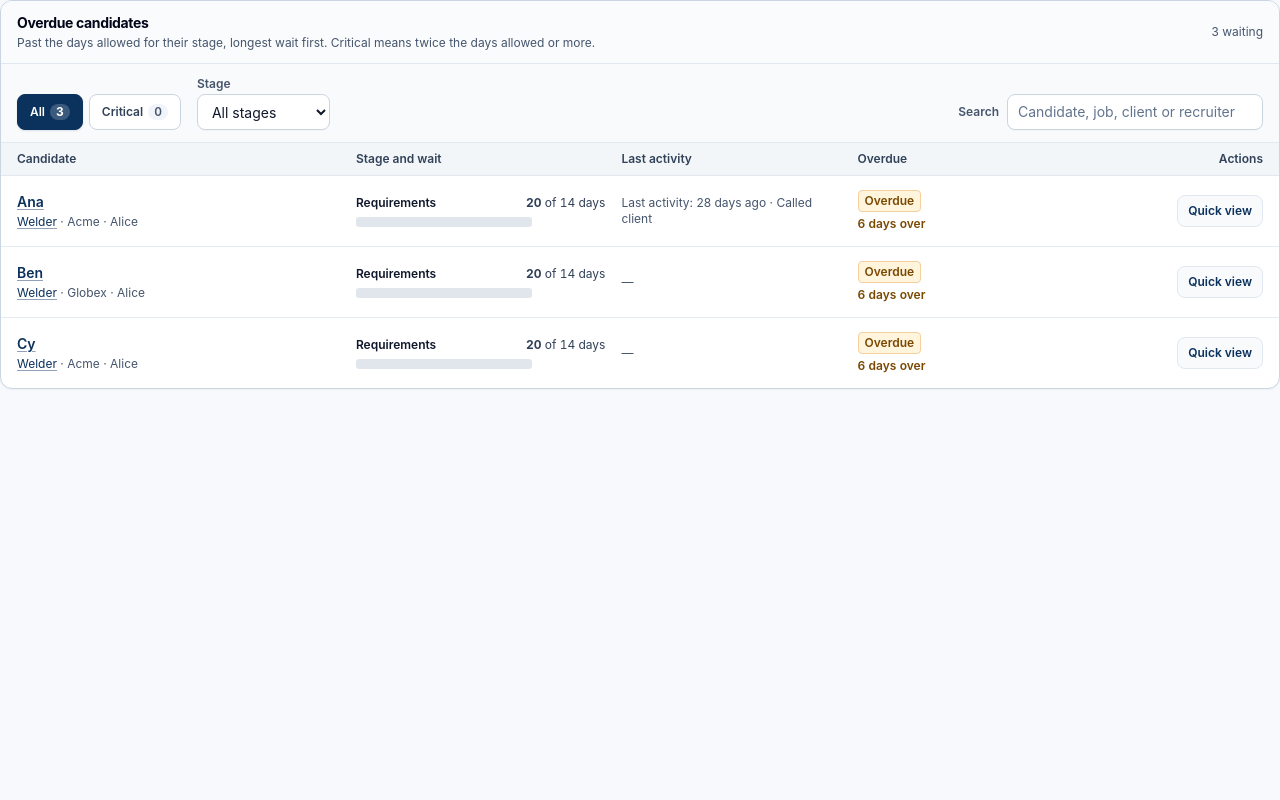
admin lists › StuckList Preview opens a dialog, Next steps through the filtered list, Escape closes
The width and height of the screenshot is (1280, 800).
Type "acme" into the search field labelled "Search" at [1135, 112], box [1007, 94, 1263, 130]
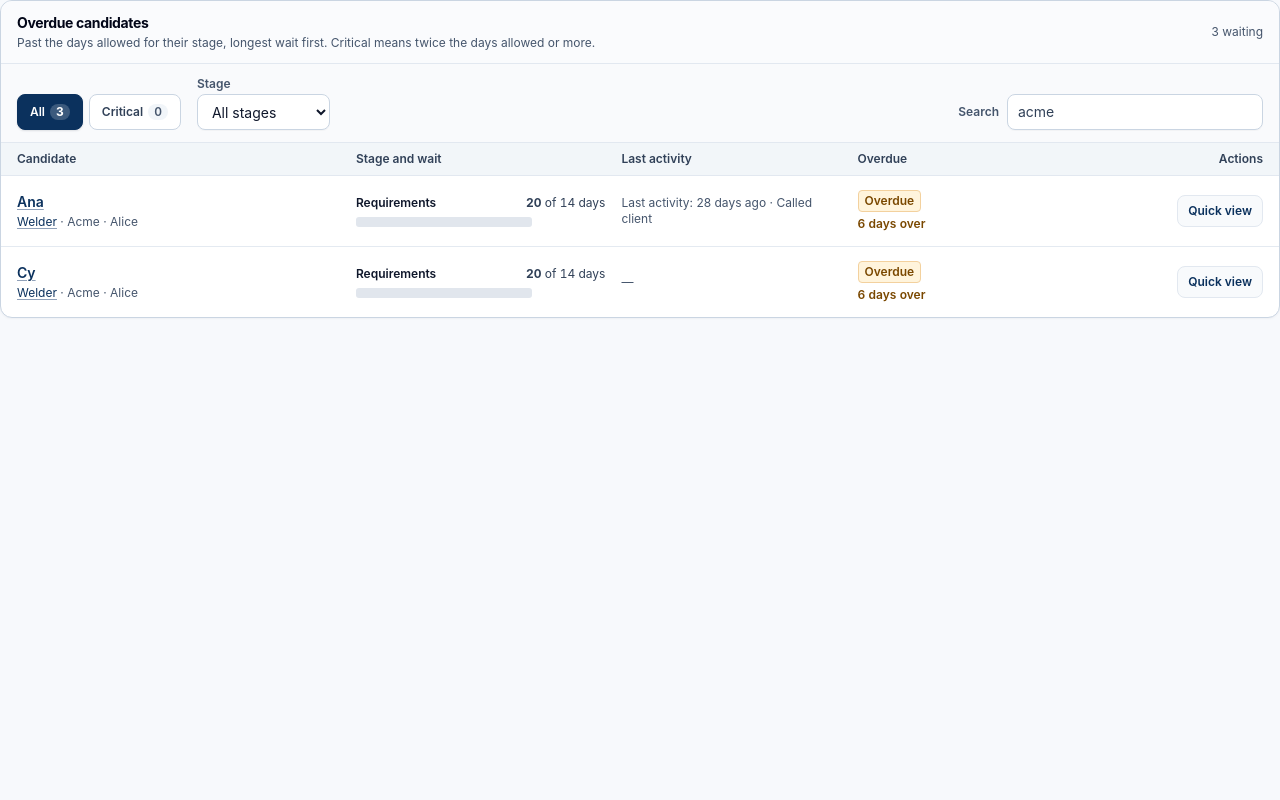
Click the button with aria-label "Quick view: Ana" at [1220, 211], box [1177, 195, 1263, 227]
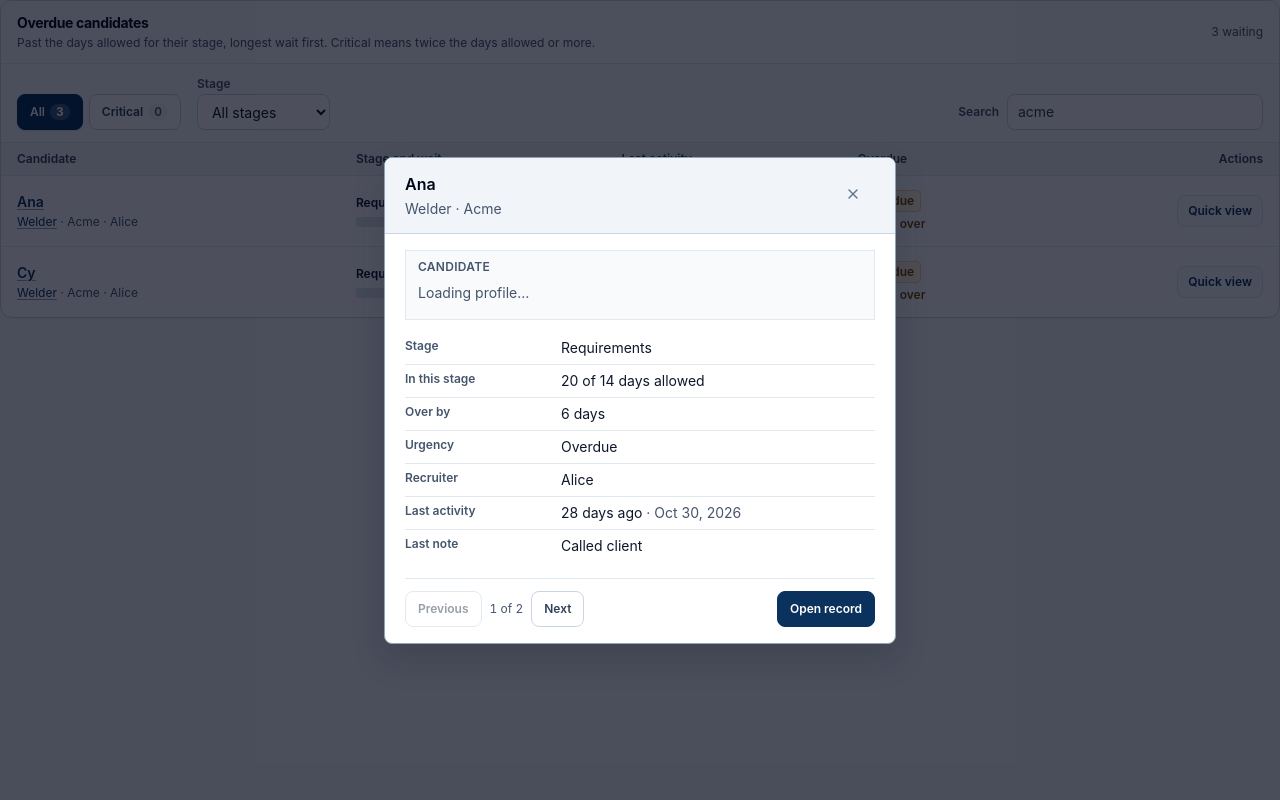
Expected: the heading "Ana" is shown, [405, 174, 436, 194]
Expected: the text "1 of 2" is shown, [490, 600, 523, 616]
Expected: the text "Called client" is shown, [561, 536, 642, 554]
Click the button "Next" at [558, 608], box [531, 590, 584, 626]
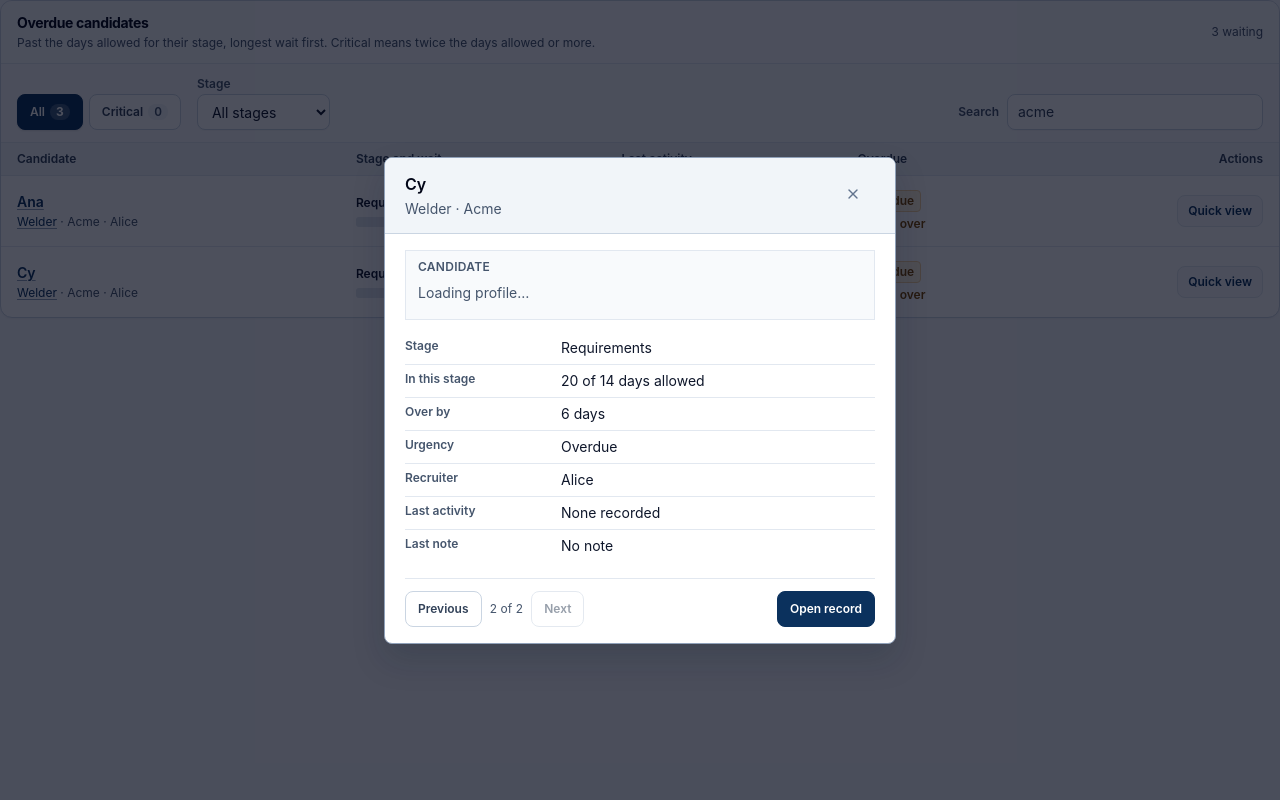
Expected: the heading "Cy" is shown, [405, 174, 426, 194]
Expected: the text "2 of 2" is shown, [490, 600, 523, 616]
Expected: the button "Next" is disabled, [531, 590, 584, 626]
Press Escape
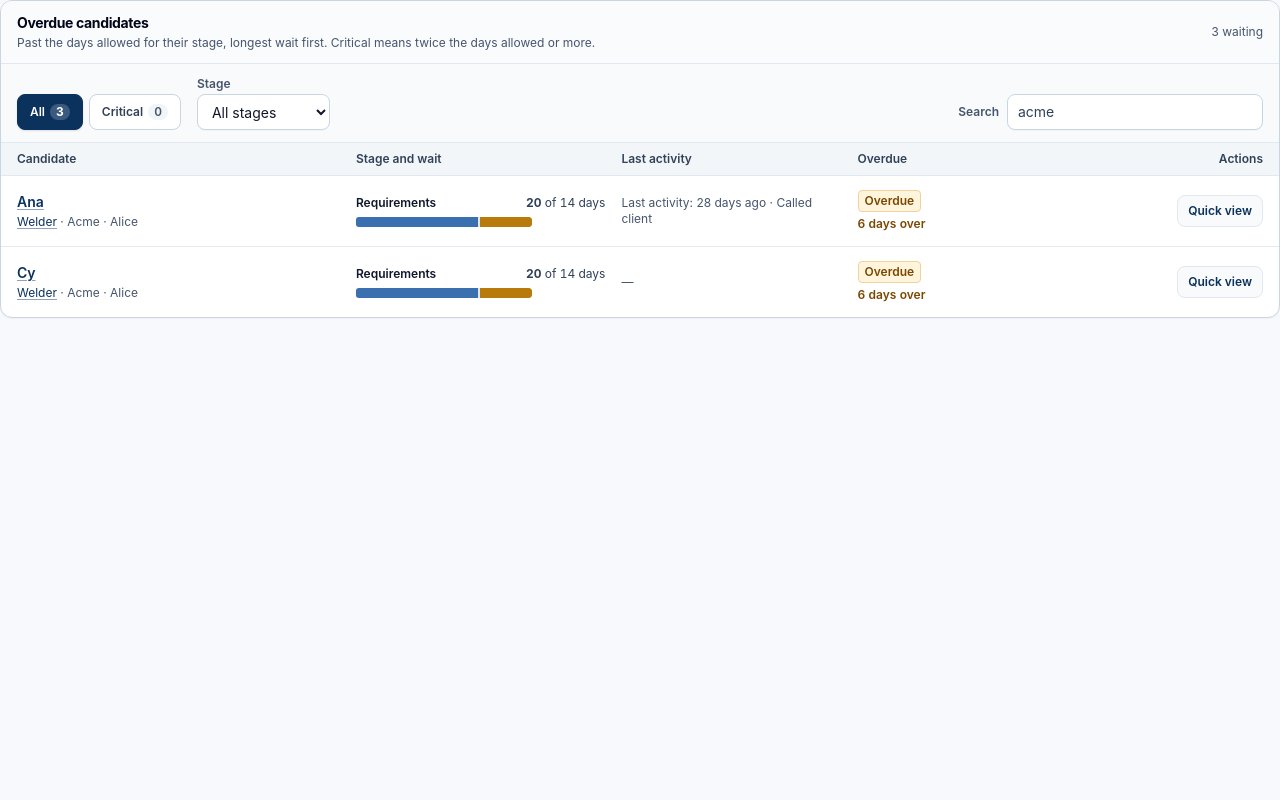
Expected: the dialog is gone
